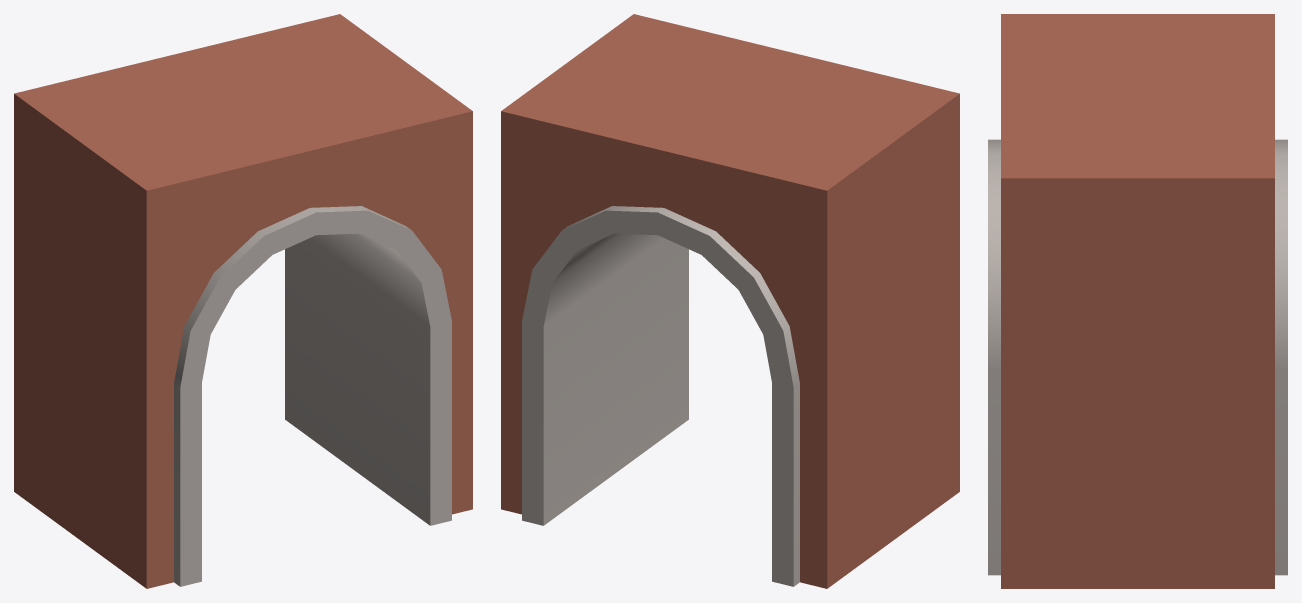
The model's file is TUNNEL_ARCH.fbx.
3 renders of one model, left to right at view 1: azimuth 30°, elevation 25°; view 2: azimuth 150°, elevation 25°; view 3: azimuth 270°, elevation 25°, orthographic. The views are drawn at different scales.
Visible parts, largest first — view 1: TUNNEL_ARCH; view 2: TUNNEL_ARCH; view 3: TUNNEL_ARCH.
Boxes of the visible parts, x1=… form: TUNNEL_ARCH: x1=14, y1=14, x2=472, y2=588; TUNNEL_ARCH: x1=501, y1=14, x2=959, y2=588; TUNNEL_ARCH: x1=988, y1=14, x2=1287, y2=588.
Size of the model in its own units: 300 by 350 by 232.
